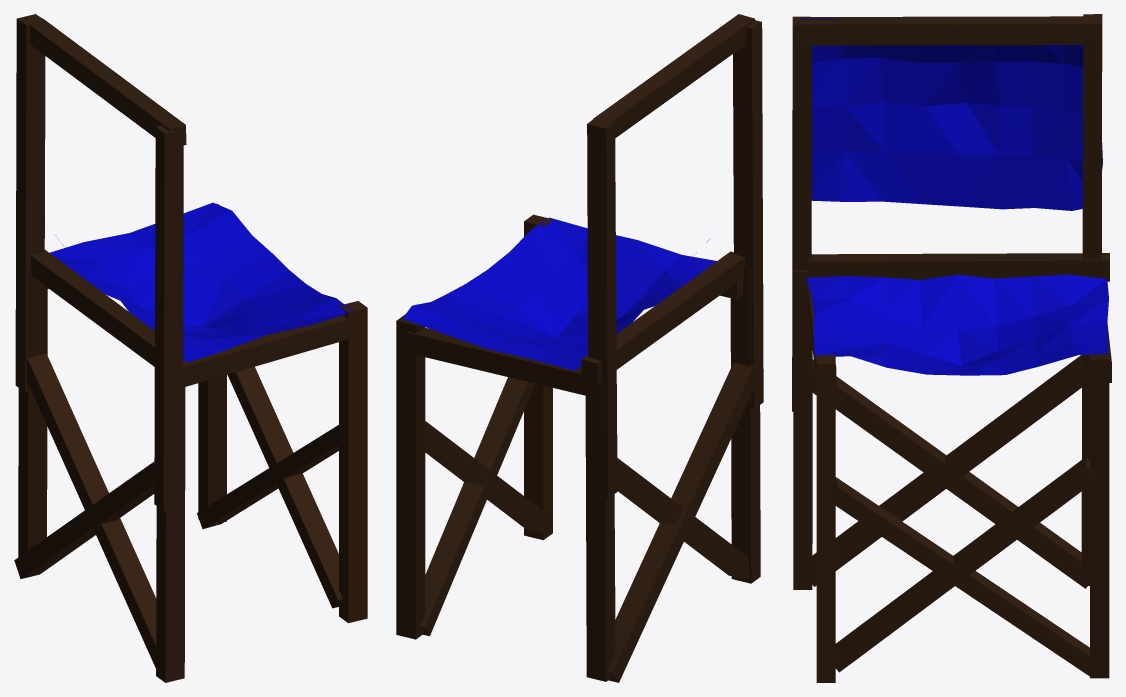
Rendered from chair.obj.
The picture shows the model from 3 angles, left to right: view 1: azimuth 30°, elevation 25°; view 2: azimuth 150°, elevation 25°; view 3: azimuth 270°, elevation 25°; orthographic projection. The views are drawn at different scales.
Visible parts, largest first — view 1: cadeira; view 2: cadeira; view 3: cadeira.
Part boxes in pixels (bbox=[...]): cadeira: bbox=[14, 14, 367, 682]; cadeira: bbox=[396, 14, 763, 682]; cadeira: bbox=[792, 14, 1111, 682].
Size of the model in its own units: 0.4423 by 1.03 by 0.5243.
